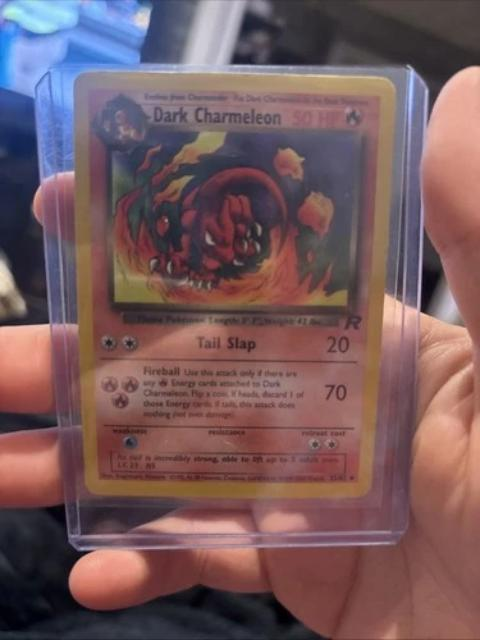Card: (70, 67, 404, 504)
Name: (149, 103, 288, 129)
